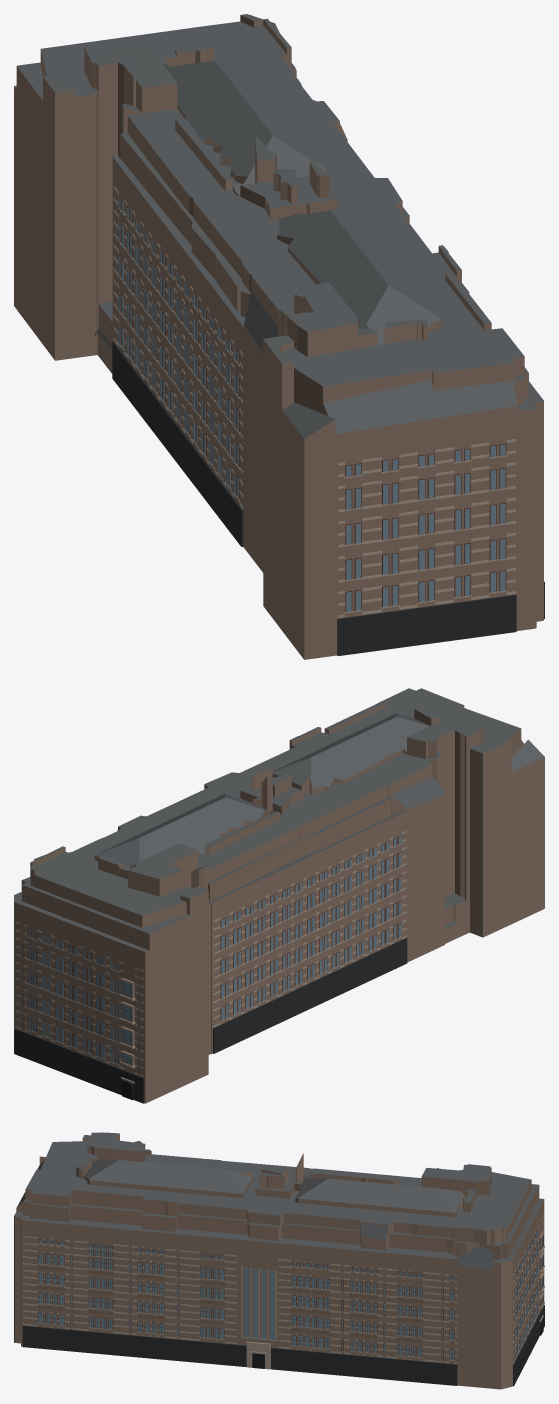
File: de-bazel.glb
3 views of the same model, one above another, from view 1: azimuth 30°, elevation 25°; view 2: azimuth 150°, elevation 25°; view 3: azimuth 270°, elevation 25° (orthographic). The views are drawn at different scales.
Visible parts, largest first — view 1: de-bazel; view 2: de-bazel; view 3: de-bazel.
Boxes of the visible parts, x1=… form: de-bazel: x1=14, y1=14, x2=544, y2=659; de-bazel: x1=14, y1=688, x2=544, y2=1103; de-bazel: x1=14, y1=1132, x2=544, y2=1389.
Size of the model in its own units: 50.04 by 40.52 by 107.
